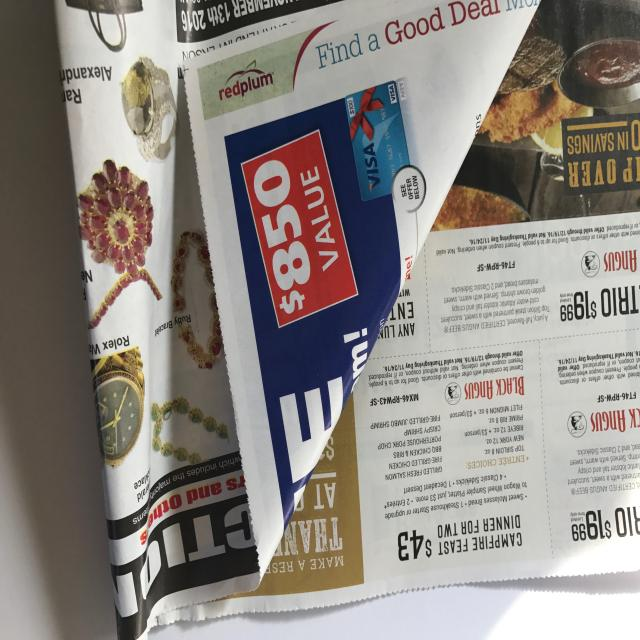paper: (50, 0, 640, 640)
